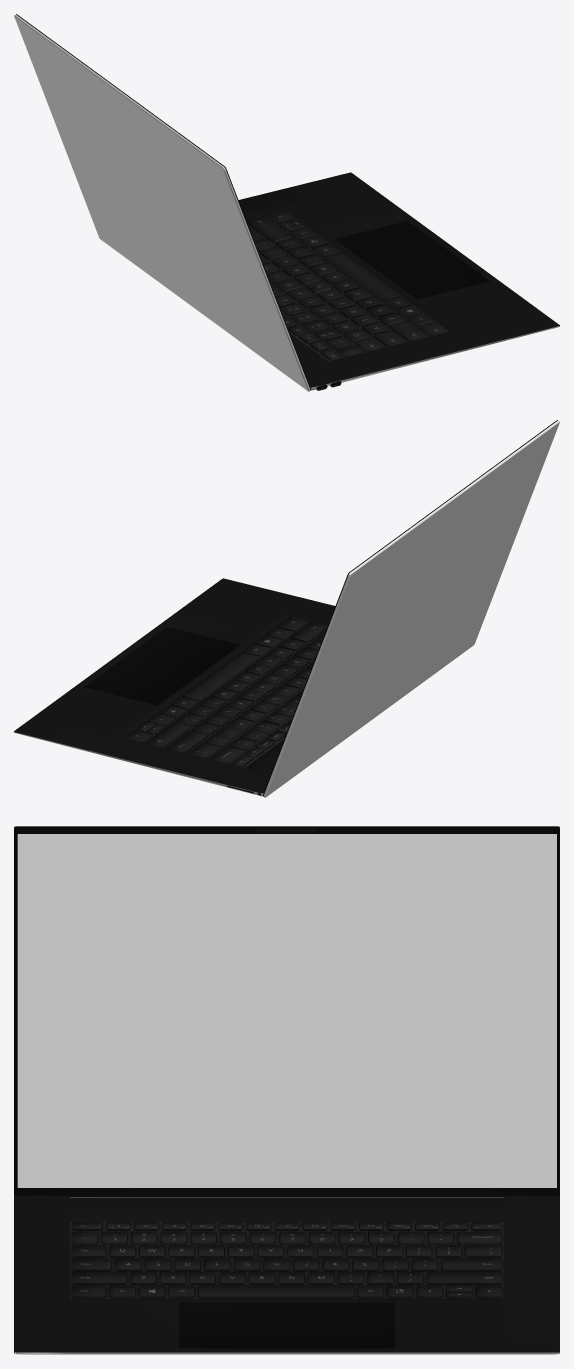
File: notebook.glb
3 renders of one model, top to bottom at view 1: azimuth 30°, elevation 25°; view 2: azimuth 150°, elevation 25°; view 3: azimuth 270°, elevation 25°, orthographic. The views are drawn at different scales.
Parts seen in each view (by area): view 1: Plane, Plane.001; view 2: Plane, Plane.001; view 3: Plane.001, Plane.
Boxes of the visible parts, bbox=[...] form: Plane: bbox=[238, 172, 559, 390]; Plane.001: bbox=[14, 14, 311, 391]; Plane: bbox=[14, 578, 335, 796]; Plane.001: bbox=[262, 420, 559, 797]; Plane.001: bbox=[14, 826, 559, 1197]; Plane: bbox=[14, 1195, 559, 1354].
Size of the model in its own units: 5.42 by 3.8 by 5.83.
9 materials, 2 textured.
